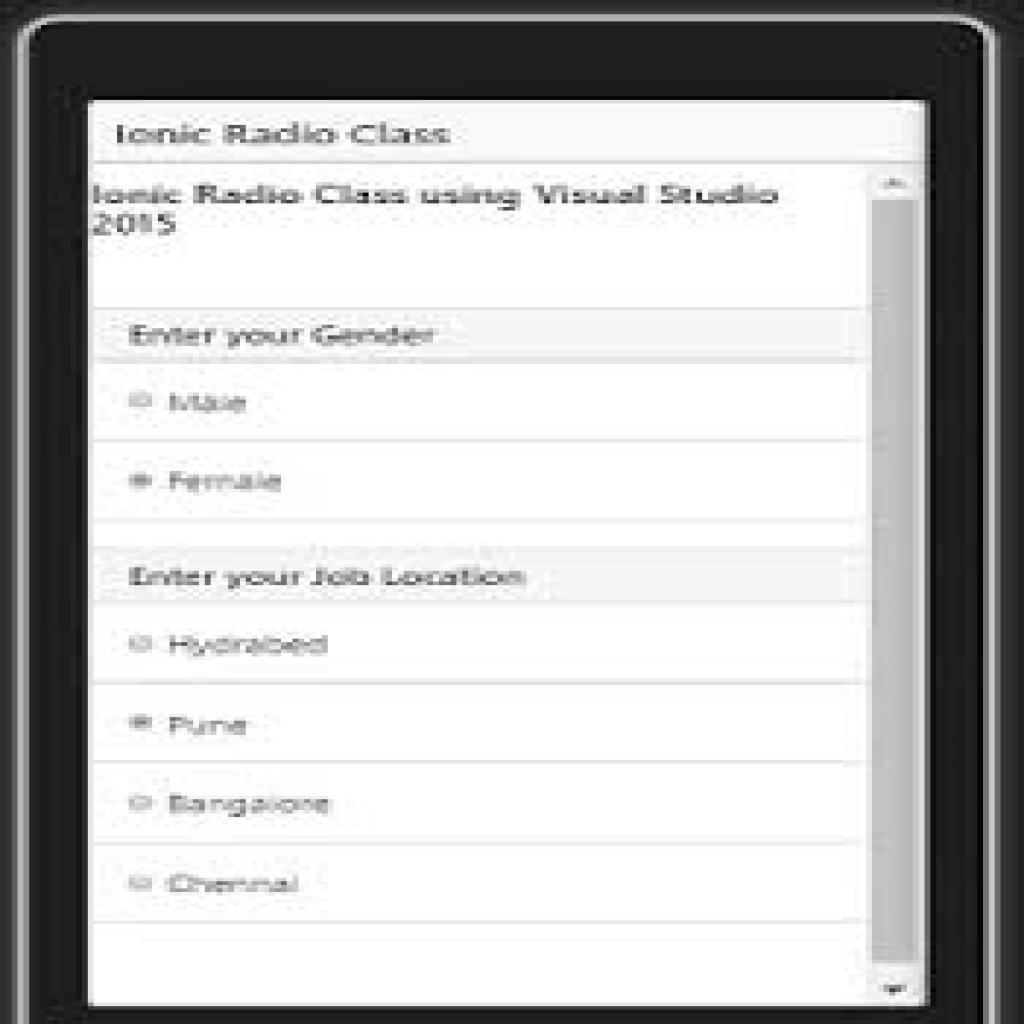radio: (116, 625, 165, 671), (113, 458, 159, 501), (116, 706, 165, 743), (116, 787, 159, 824), (116, 385, 161, 419), (116, 866, 161, 899)
